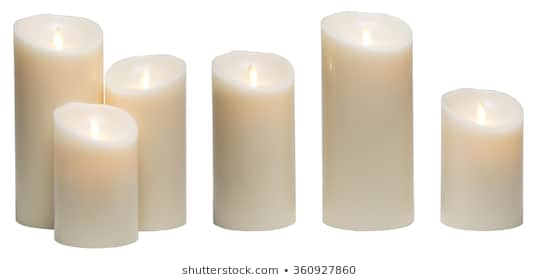Fire: (246, 67, 264, 86), (357, 27, 375, 46), (49, 30, 66, 50), (136, 68, 152, 87), (473, 105, 488, 125), (86, 117, 102, 134)
